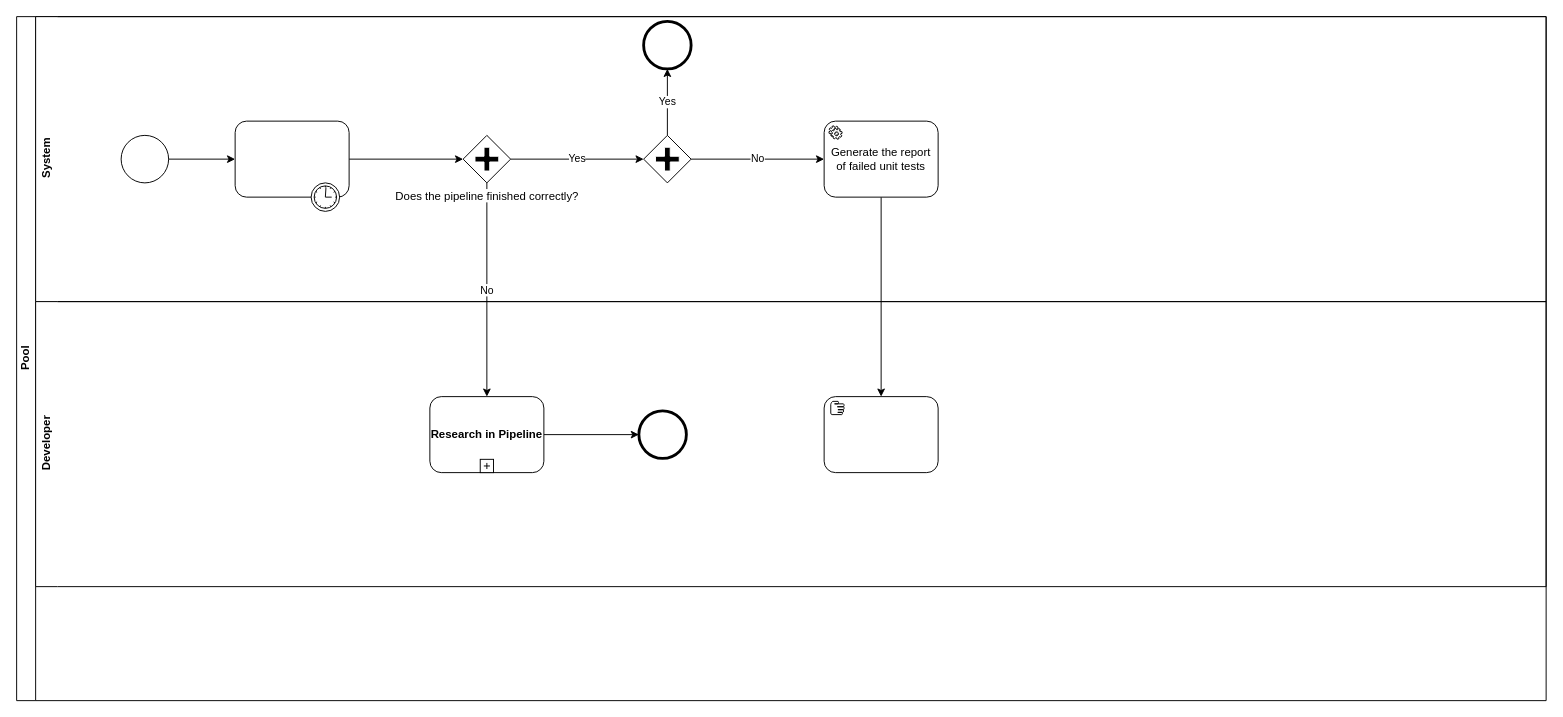
Image size: 1563x717. Some labels were removed from this diagram. Here are the shapes that lost their labels. From the top down, the box of each, then its label:
(234, 120, 349, 197): Run the unit testing pipeline (12:00 pm)
(643, 134, 691, 183): Are the unit tests done?
(823, 396, 938, 473): Gathering all the failed unit tests
